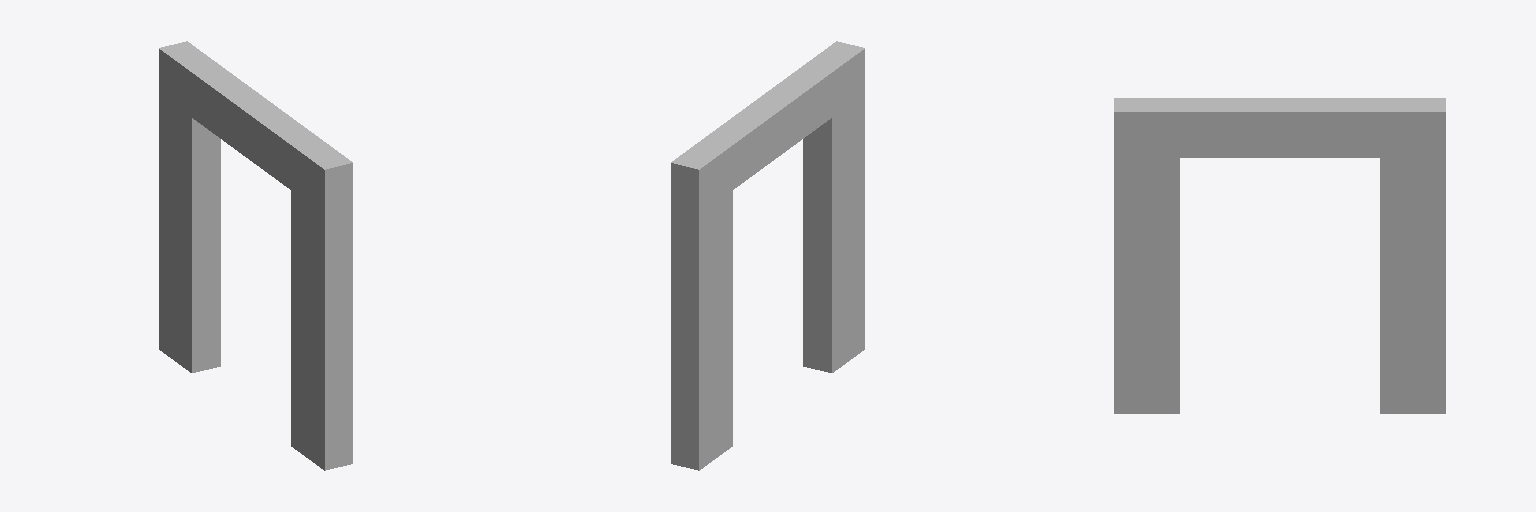
File: door.obj
The picture shows the model from 3 angles: view 1: azimuth 30°, elevation 25°; view 2: azimuth 150°, elevation 25°; view 3: azimuth 270°, elevation 25°; orthographic projection.
Visible parts, largest first — view 1: Cube; view 2: Cube; view 3: Cube.
Part boxes in pixels (bbox=[...]): Cube: bbox=[159, 41, 352, 470]; Cube: bbox=[671, 41, 864, 470]; Cube: bbox=[1114, 98, 1445, 413].
Bounding box in the file's own units: 0.1 × 1 × 1.